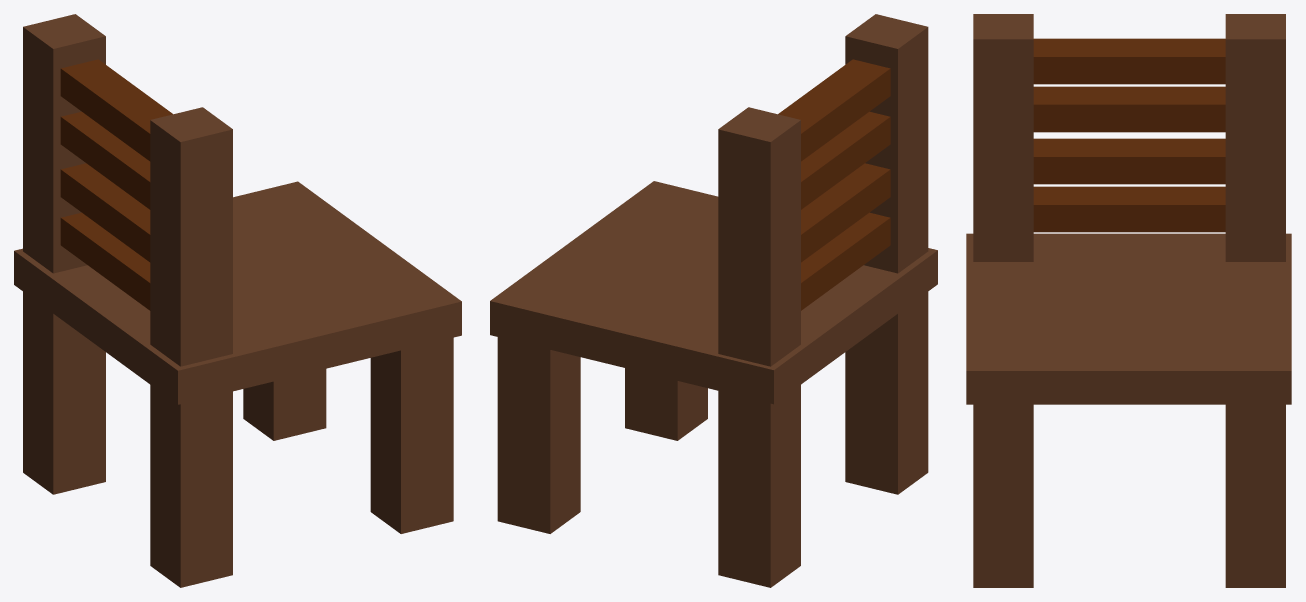
Rendered from chair.fbx.
3 views of the same model, side by side, from view 1: azimuth 30°, elevation 25°; view 2: azimuth 150°, elevation 25°; view 3: azimuth 270°, elevation 25° (orthographic).
Visible parts, largest first — view 1: chair; view 2: chair; view 3: chair.
Boxes of the visible parts, left/top/right/bottom form: chair: left=14, top=14, right=461, bottom=587; chair: left=490, top=14, right=937, bottom=587; chair: left=966, top=14, right=1291, bottom=587.
Size of the model in its own units: 87.9 by 132 by 87.9.
Materials: 1 (1 with a texture image).
